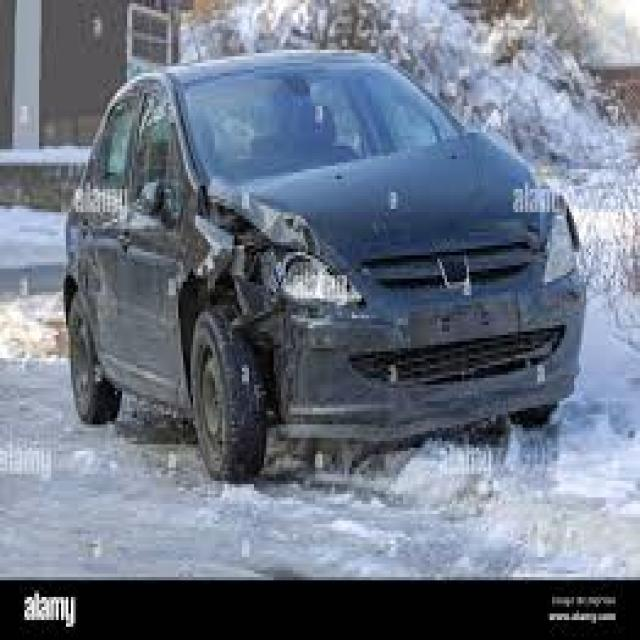damaged-head-light: (232, 234, 347, 310)
